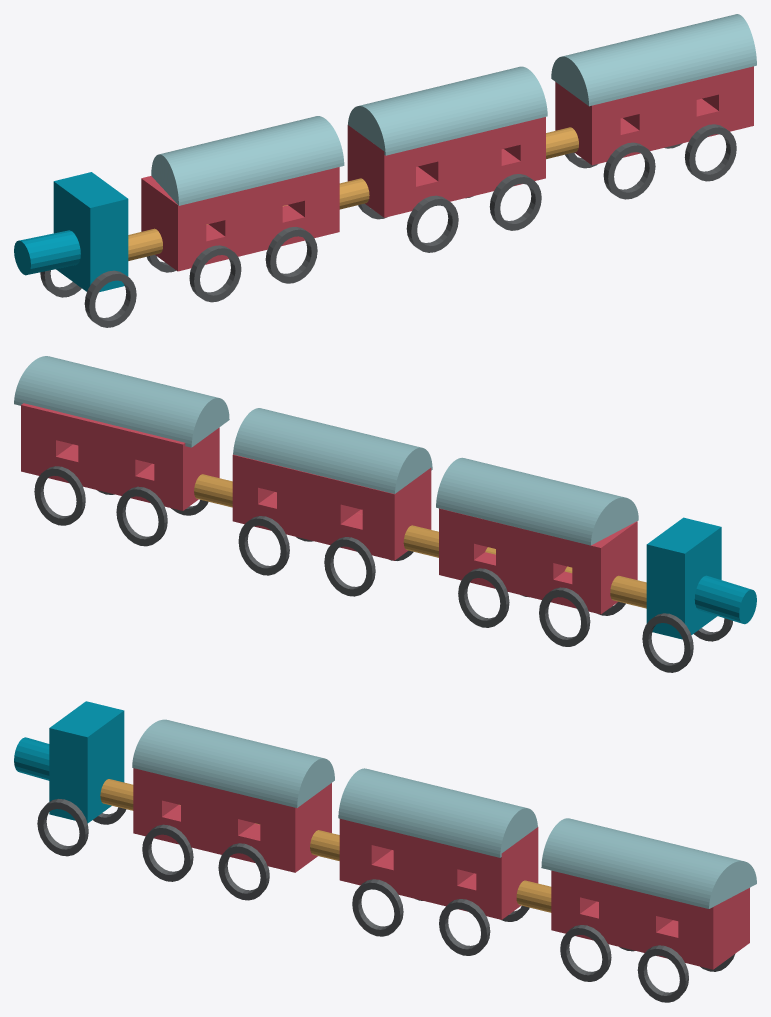
The model's file is Train.glb.
3 views of the same model, one above another, from view 1: azimuth 30°, elevation 25°; view 2: azimuth 150°, elevation 25°; view 3: azimuth 330°, elevation 25° (orthographic).
Visible parts, largest first — view 1: Mesh_Mesh_head_geo.001_lambert2SG.001; view 2: Mesh_Mesh_head_geo.001_lambert2SG.001; view 3: Mesh_Mesh_head_geo.001_lambert2SG.001.
Part boxes in pixels (<box>): Mesh_Mesh_head_geo.001_lambert2SG.001: <box>14,14,756,327</box>; Mesh_Mesh_head_geo.001_lambert2SG.001: <box>14,356,756,672</box>; Mesh_Mesh_head_geo.001_lambert2SG.001: <box>14,701,756,1002</box>.
Size of the model in its own units: 227 by 41 by 28.32.
